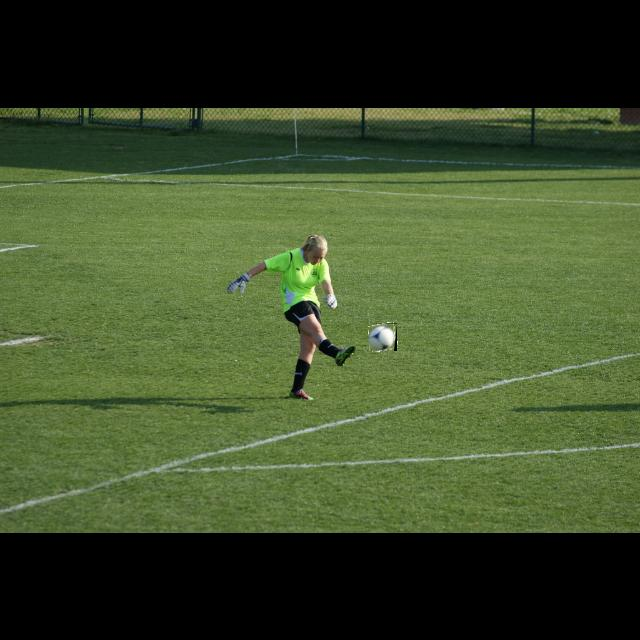Football: (369, 323, 397, 351)
